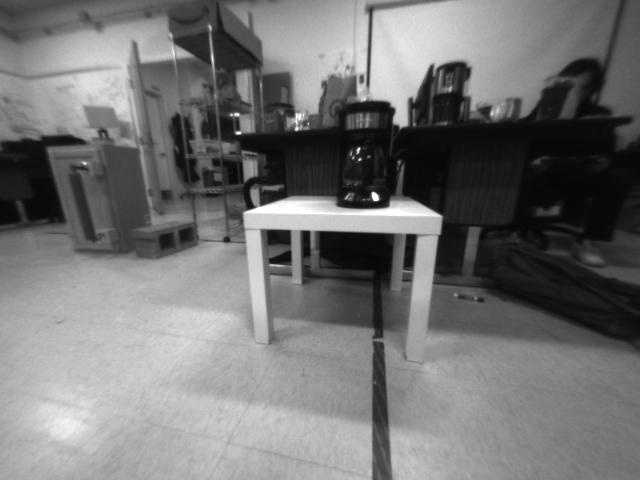coffee_pot: (331, 100, 402, 212)
